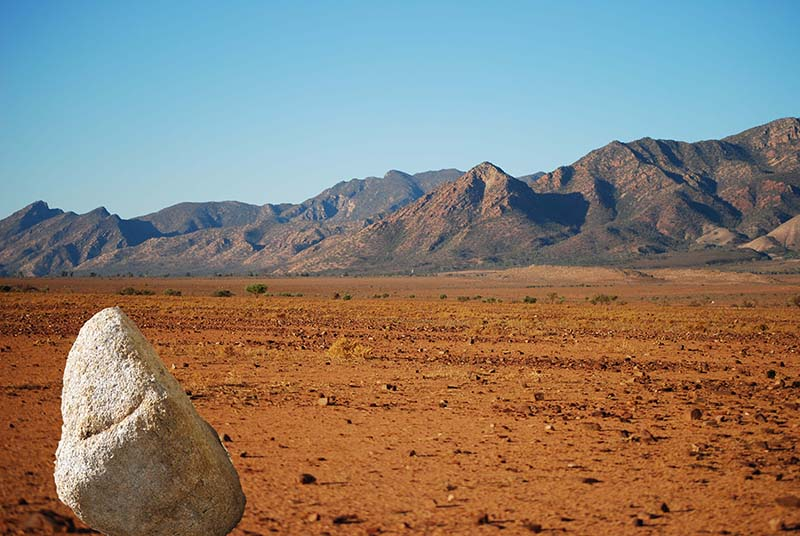Rocks: (49, 291, 255, 536)
